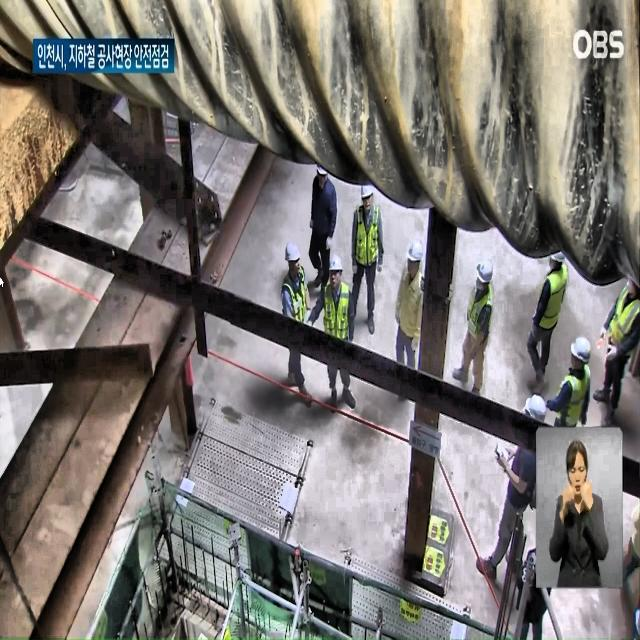safety_helmet: (520, 393, 558, 444), (467, 255, 497, 296), (565, 323, 592, 366), (349, 178, 376, 212), (284, 230, 306, 268), (403, 233, 423, 263), (327, 259, 338, 276)
safety_jacket: (320, 284, 370, 368), (276, 274, 312, 356), (539, 272, 571, 358), (609, 277, 637, 371), (468, 286, 502, 359), (348, 215, 384, 281), (554, 372, 590, 438)
